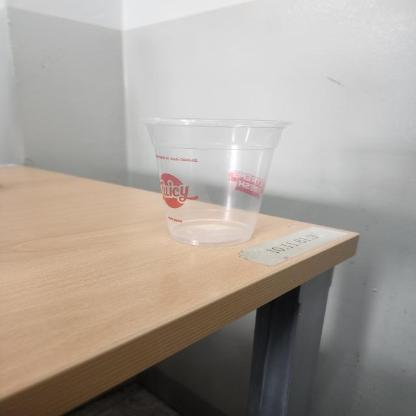Plastic Cup: (141, 116, 295, 248)
